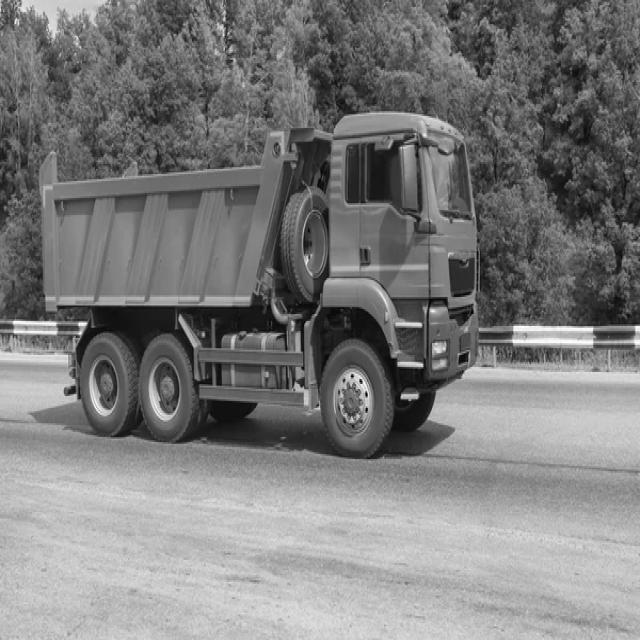Truck: (38, 112, 480, 456)
